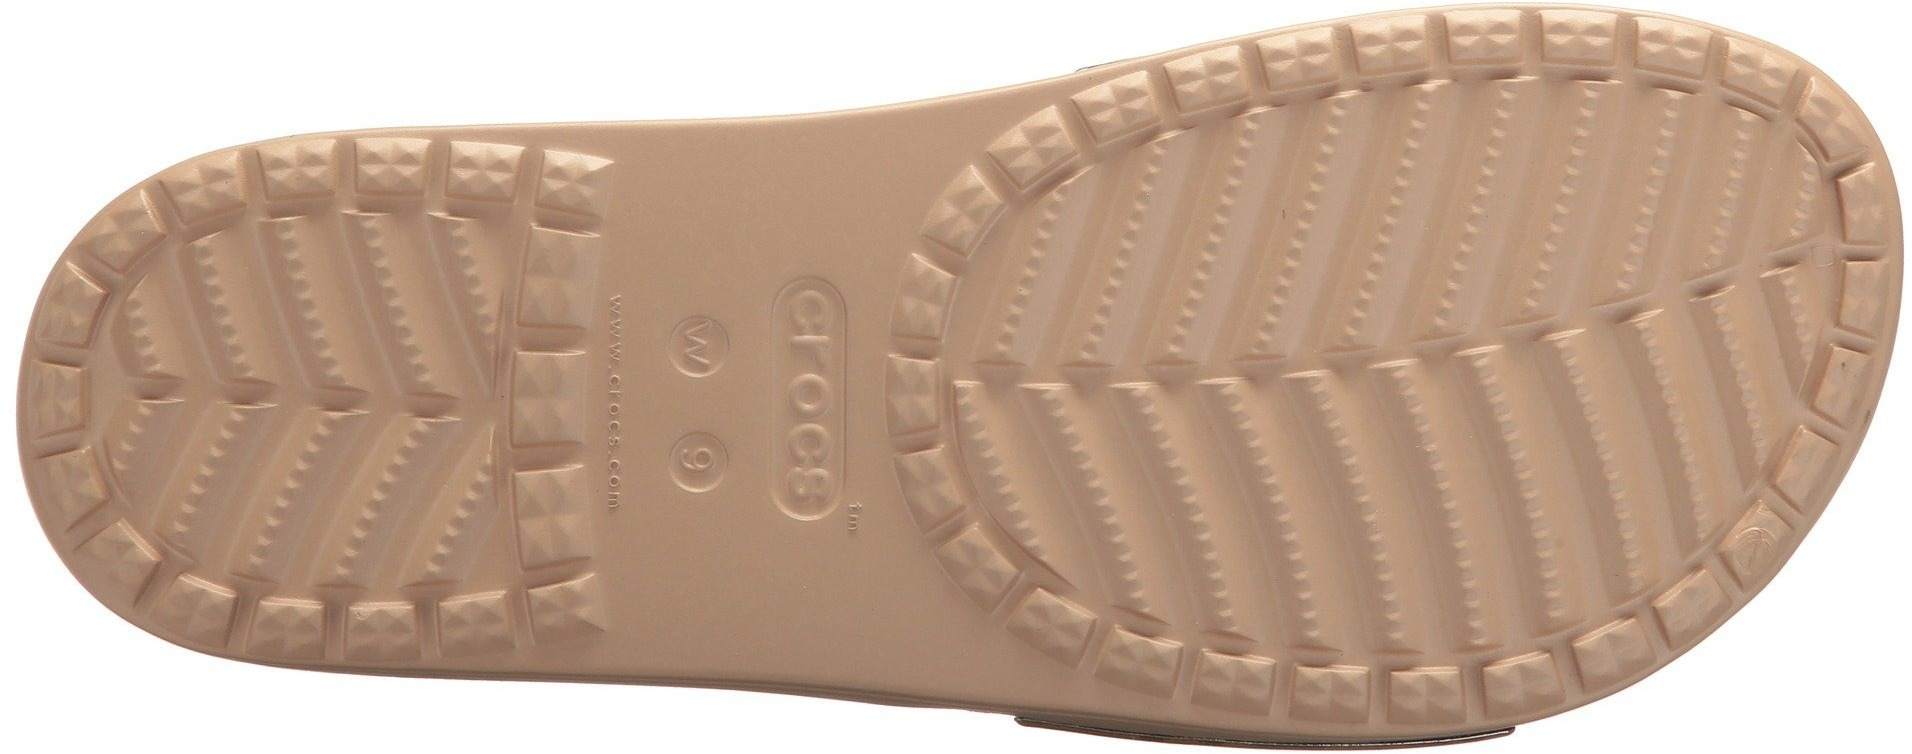other: (630, 131, 800, 306), (621, 497, 780, 669), (790, 553, 926, 686)
text: (776, 425, 857, 501), (777, 334, 841, 414)
